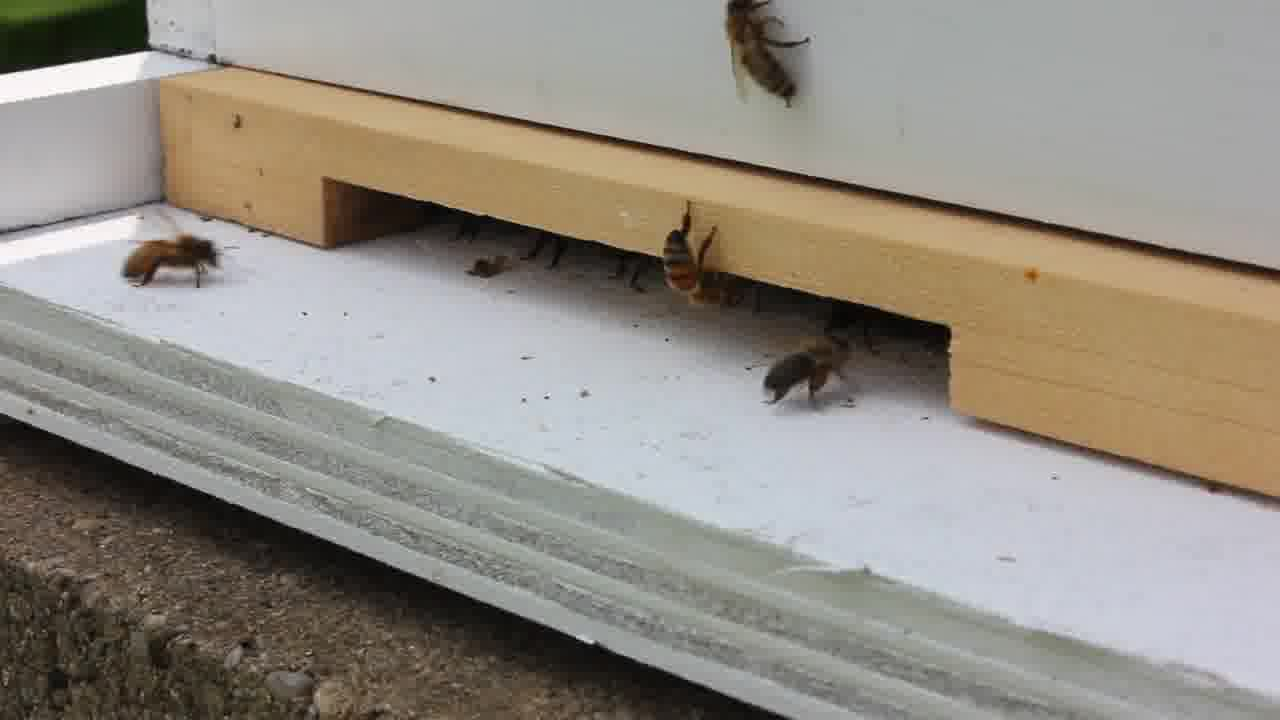pollen: (752, 328, 857, 418)
